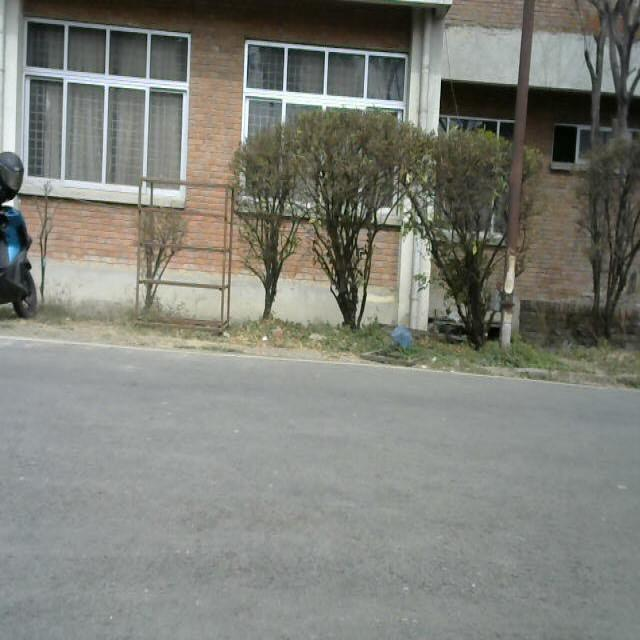Bike: (0, 152, 46, 345)
Pole: (502, 0, 525, 381)
Road: (0, 349, 640, 640)
trees: (217, 116, 419, 324)
